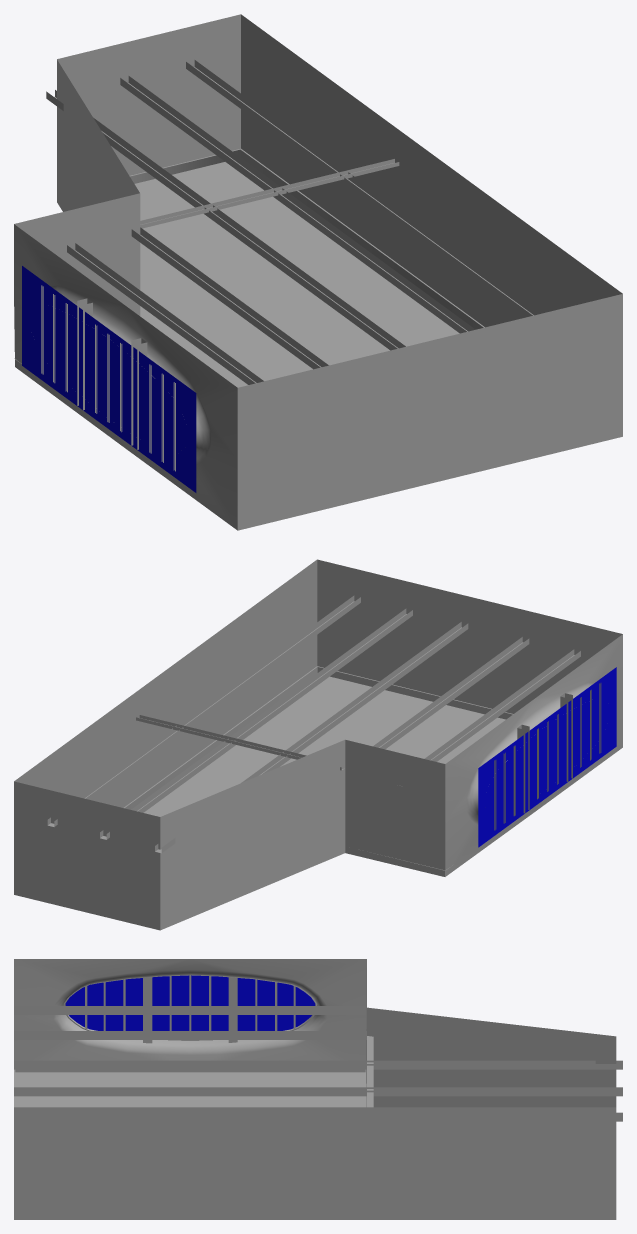
File: Workshop.fbx
The picture shows the model from 3 angles, top to bottom: view 1: azimuth 30°, elevation 25°; view 2: azimuth 150°, elevation 25°; view 3: azimuth 270°, elevation 25°; orthographic projection. The views are drawn at different scales.
Visible parts, largest first — view 1: walls, ceiling_joists, glass, window_structure, baseboard; view 2: walls, ceiling_joists, glass, baseboard, window_structure; view 3: walls, ceiling_joists, glass, window_structure, baseboard.
Boxes of the visible parts, x1,y1,x2,y2 form: walls: [14, 14, 622, 530]; ceiling_joists: [46, 60, 540, 384]; glass: [22, 266, 196, 492]; window_structure: [41, 285, 175, 471]; baseboard: [14, 148, 484, 363]; walls: [14, 559, 622, 930]; ceiling_joists: [47, 595, 580, 853]; glass: [478, 667, 616, 847]; baseboard: [124, 666, 513, 870]; window_structure: [494, 683, 601, 830]; walls: [14, 959, 616, 1219]; ceiling_joists: [14, 1006, 622, 1121]; glass: [65, 975, 315, 1030]; window_structure: [85, 975, 295, 1043]; baseboard: [14, 1069, 366, 1107].
Size of the model in its own units: 30.11 by 10.18 by 49.85.
